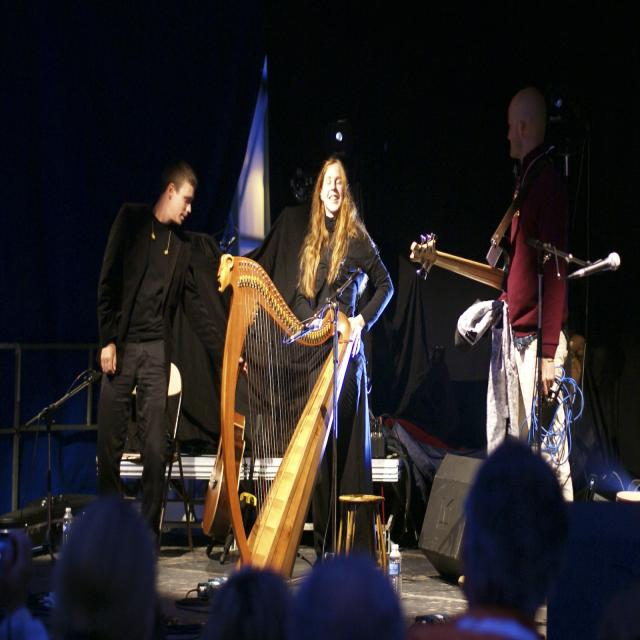guitar: (199, 344, 252, 541)
harp: (213, 251, 357, 577)
